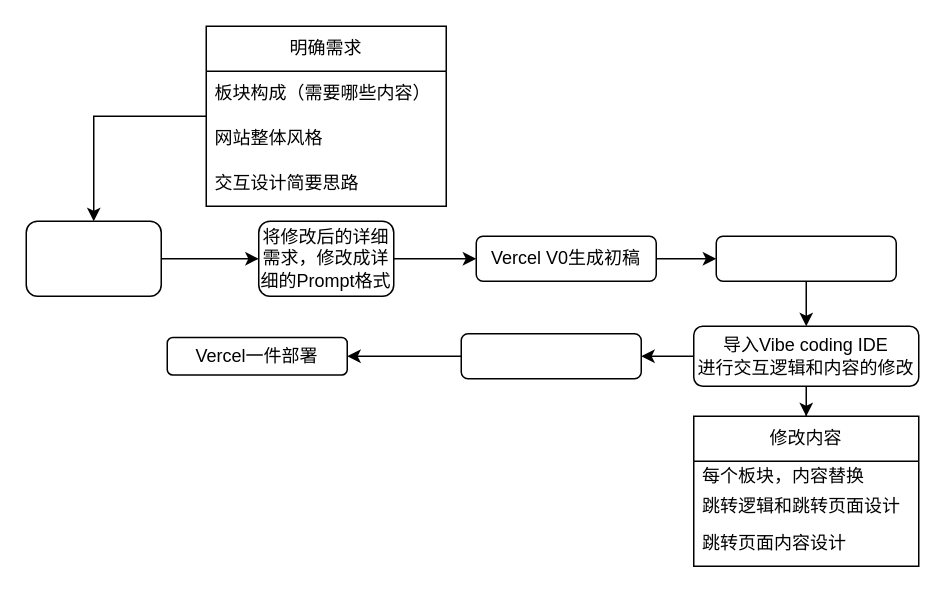
This 945x593 diagram has some shape labels left out. Here are the shapes that lost their labels. From the top down, the centre of each, then its label:
At point (93, 258): "大致构建上述需求后输入AI进行丰富并二次修改".
At point (805, 258): "调整设计 导出最终设计搞".
At point (550, 355): "GitHub上传全部项目".
